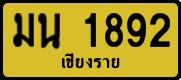letters: (37, 11, 62, 50), (148, 10, 173, 48), (12, 11, 36, 48), (126, 11, 147, 48), (104, 12, 124, 48), (84, 11, 99, 48)
province: (59, 52, 121, 71)
